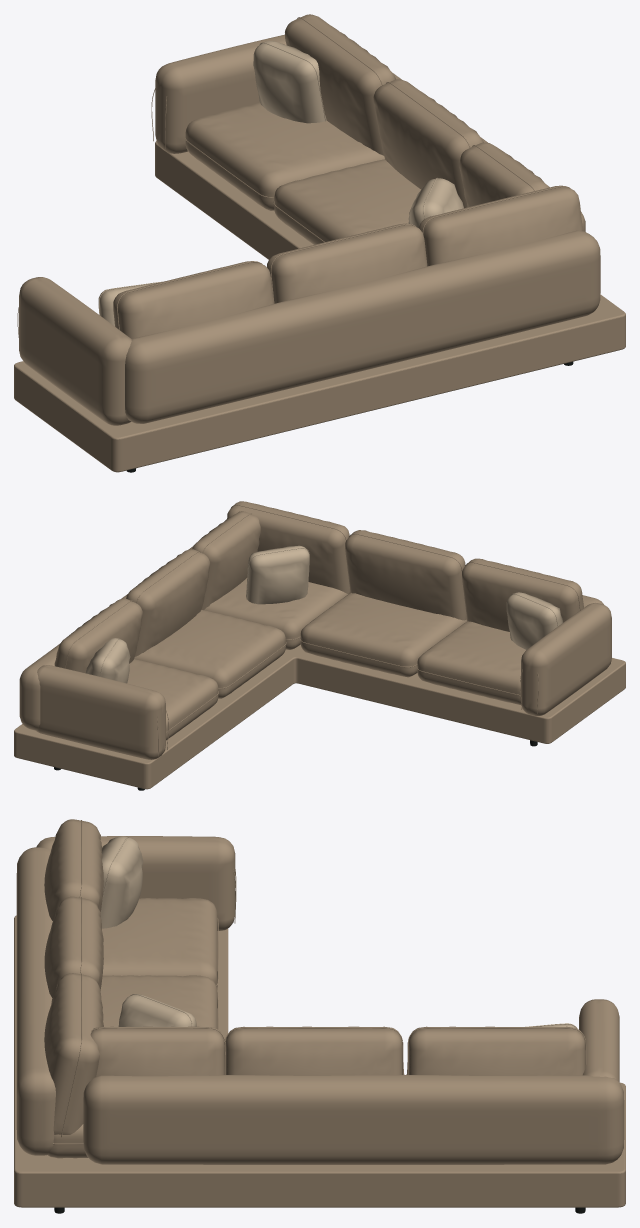
The model's file is atelier-brown-corner.glb.
3 views of the same model, one above another, from view 1: azimuth 30°, elevation 25°; view 2: azimuth 150°, elevation 25°; view 3: azimuth 270°, elevation 25° (orthographic). The views are drawn at different scales.
Visible parts, largest first — view 1: continuous_L_upholstered_frame, left_scatter_pillow_cloth; view 2: continuous_L_upholstered_frame, left_scatter_pillow_cloth; view 3: continuous_L_upholstered_frame, left_scatter_pillow_cloth.
Part boxes in pixels (x1,y1,x2,y2): continuous_L_upholstered_frame: [14, 14, 625, 472]; left_scatter_pillow_cloth: [98, 41, 463, 326]; continuous_L_upholstered_frame: [14, 501, 625, 789]; left_scatter_pillow_cloth: [86, 545, 563, 683]; continuous_L_upholstered_frame: [14, 819, 625, 1207]; left_scatter_pillow_cloth: [100, 836, 577, 1028].
Bounding box in the file's own units: 3.08 × 0.9712 × 3.08.
